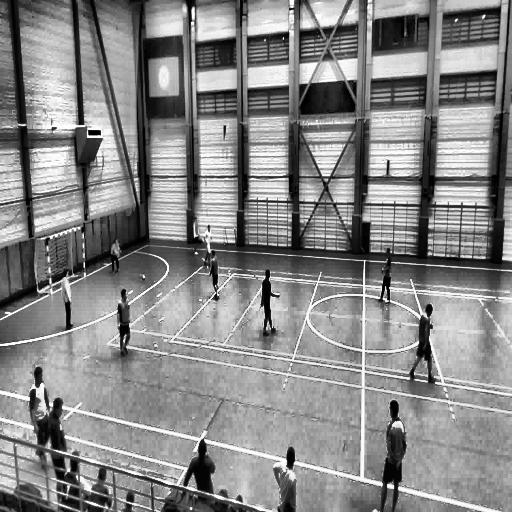ball: (141, 274, 145, 280)
player: (378, 400, 404, 511), (182, 439, 218, 505), (48, 398, 69, 504), (29, 369, 51, 462), (408, 304, 434, 382), (260, 269, 280, 337), (117, 288, 130, 355), (61, 268, 73, 328), (380, 248, 392, 303), (210, 249, 220, 300), (203, 225, 213, 267), (110, 239, 121, 274), (193, 216, 201, 258)
